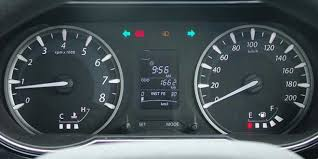Digital_Meter: (142, 78, 179, 89)
